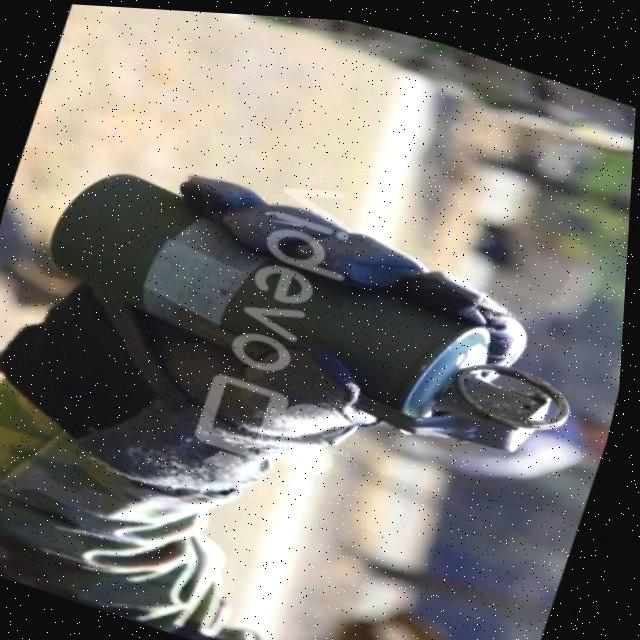grenade: (12, 143, 626, 479)
